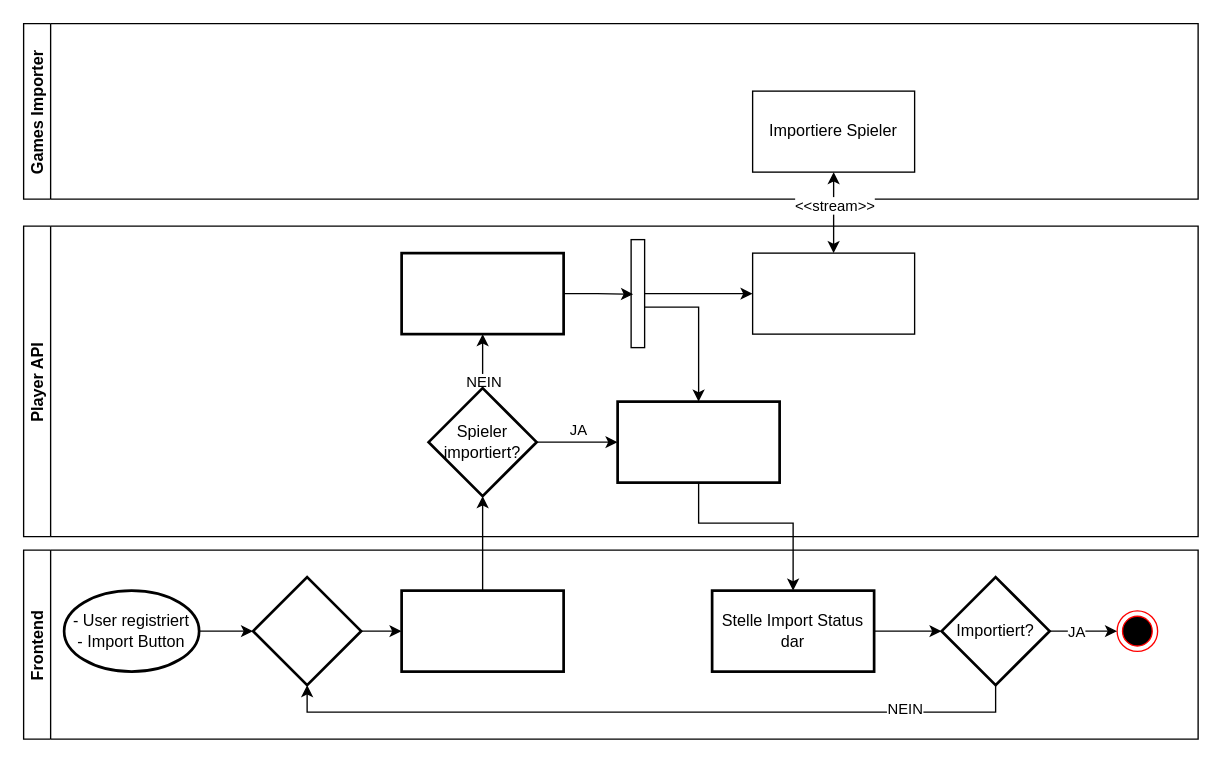
The diagram is 1222 pixels wide and 763 high, and some of its shapes have lost their labels. The shapes that lost their labels are listed below. From the top down, each one's centre as x and y in pixels, then its label:
At point 482,293: "Starte Import".
At point 833,293: "Setze Import Status".
At point 698,441: "Sende Import Status".
At point 482,630: "Sende HTTP Anfrage an Backend".
